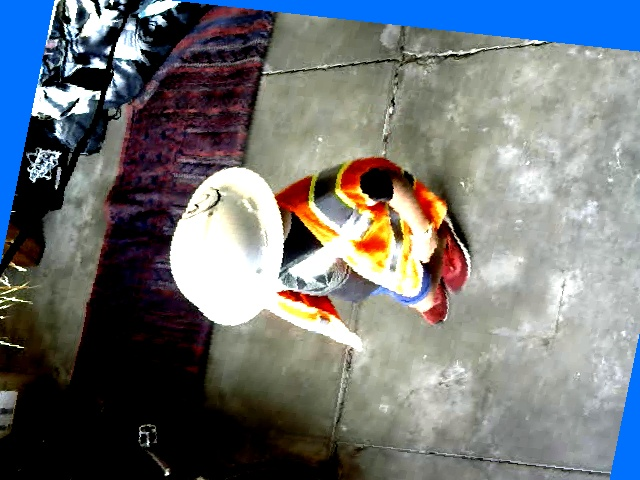three: (177, 181, 222, 223)
